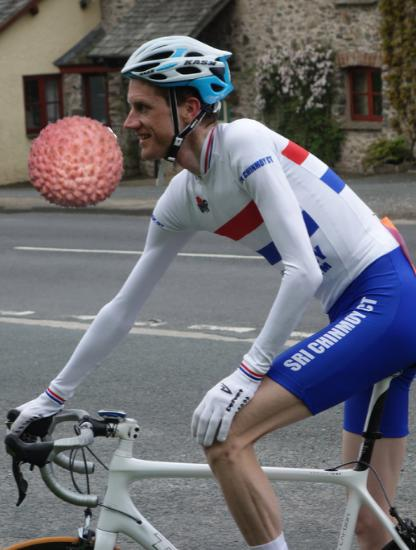Lychee: (26, 114, 125, 213)
